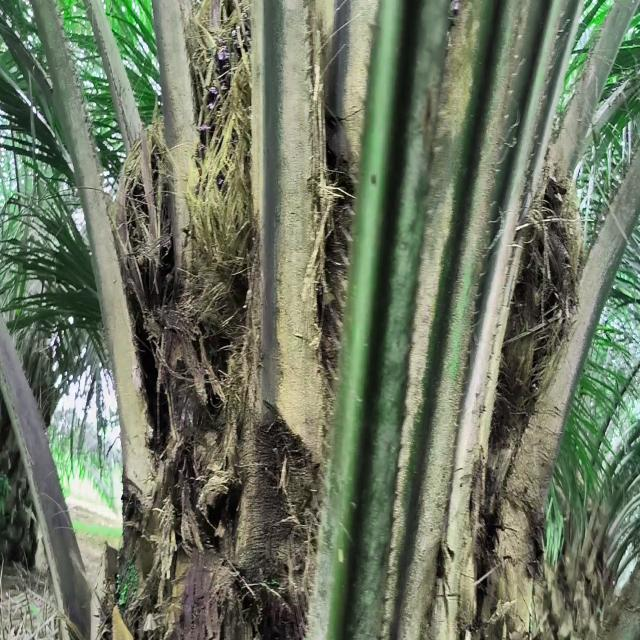palm-oil: (180, 23, 259, 295)
